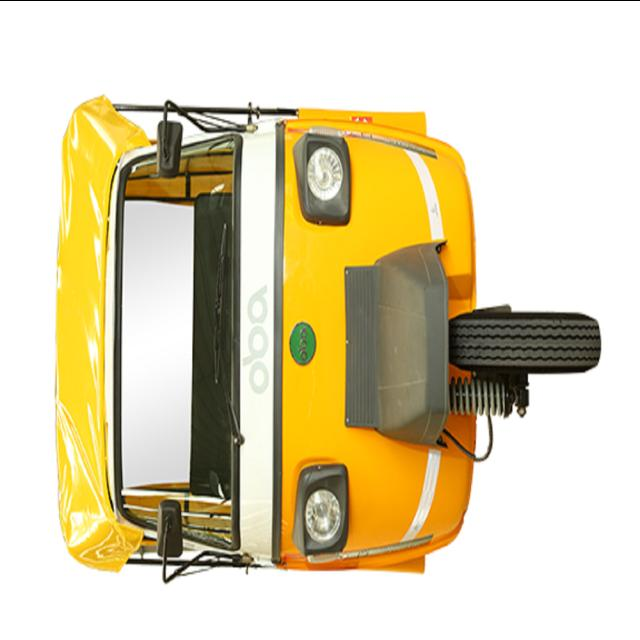Autorickshaw: (52, 62, 626, 598)
